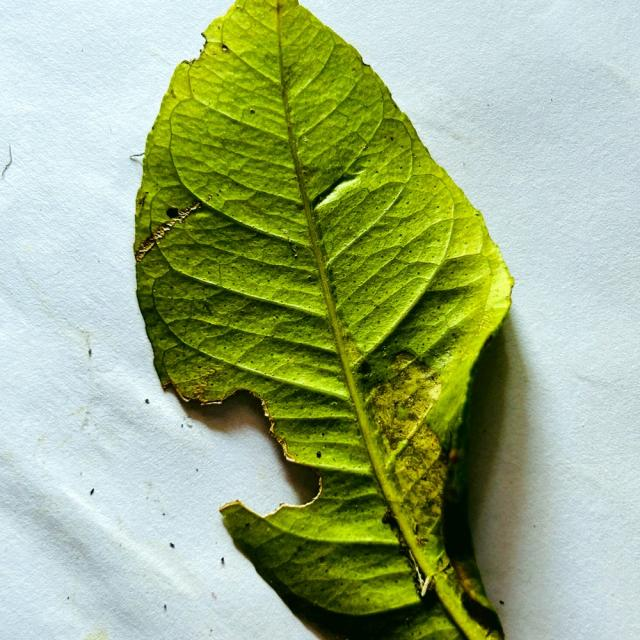Deficiency Leaf: (165, 387, 317, 514), (467, 316, 517, 617)
Lemon: (134, 0, 513, 639)
